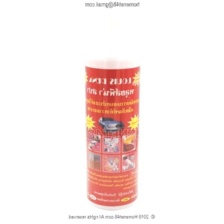cleaning_solution: (83, 5, 142, 213)
